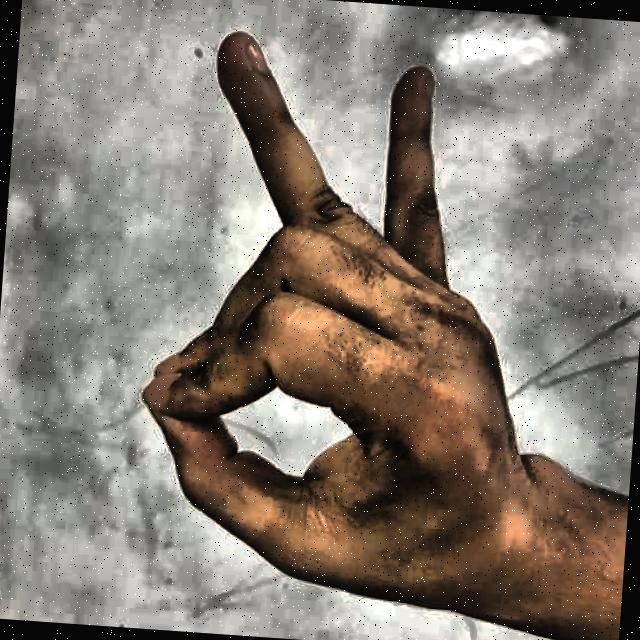Na: (85, 0, 553, 635)
